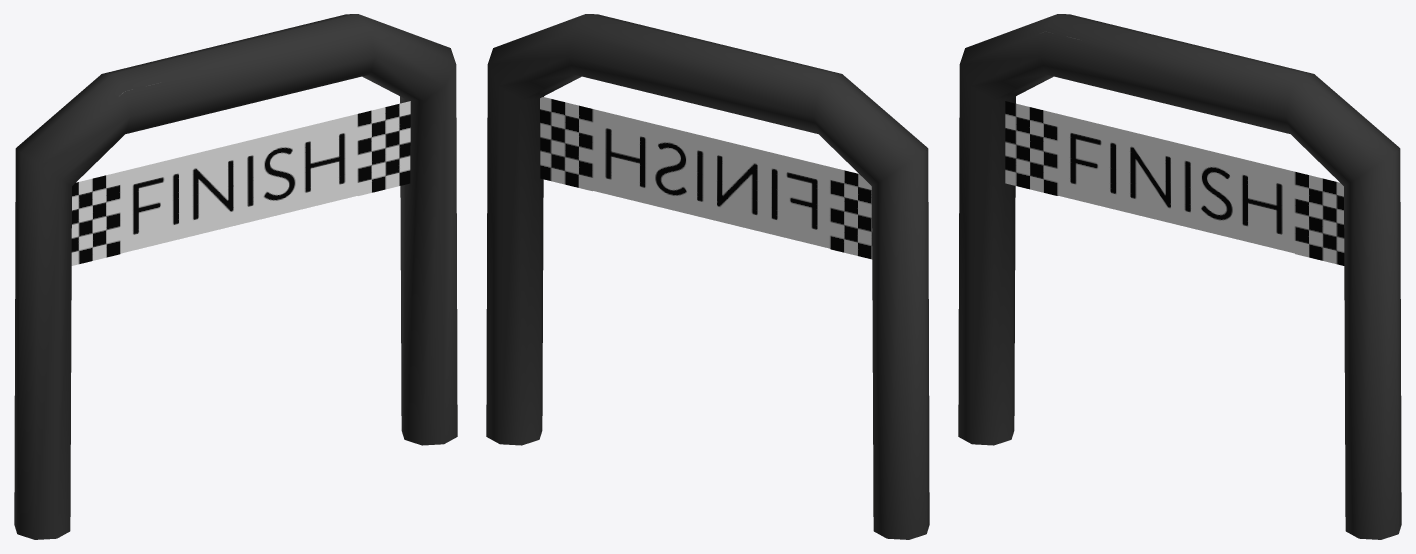
The model's file is gate.fbx.
The picture shows the model from 3 angles, left to right: view 1: azimuth 30°, elevation 25°; view 2: azimuth 150°, elevation 25°; view 3: azimuth 330°, elevation 25°; orthographic projection.
Parts seen in each view (by area): view 1: Finish_Line; view 2: Finish_Line; view 3: Finish_Line.
Part boxes in pixels (left/top/right/bottom): Finish_Line: left=14, top=14, right=457, bottom=539; Finish_Line: left=486, top=14, right=929, bottom=539; Finish_Line: left=958, top=14, right=1401, bottom=539.
Bounding box in the file's own units: 1273 × 1216 × 173.
